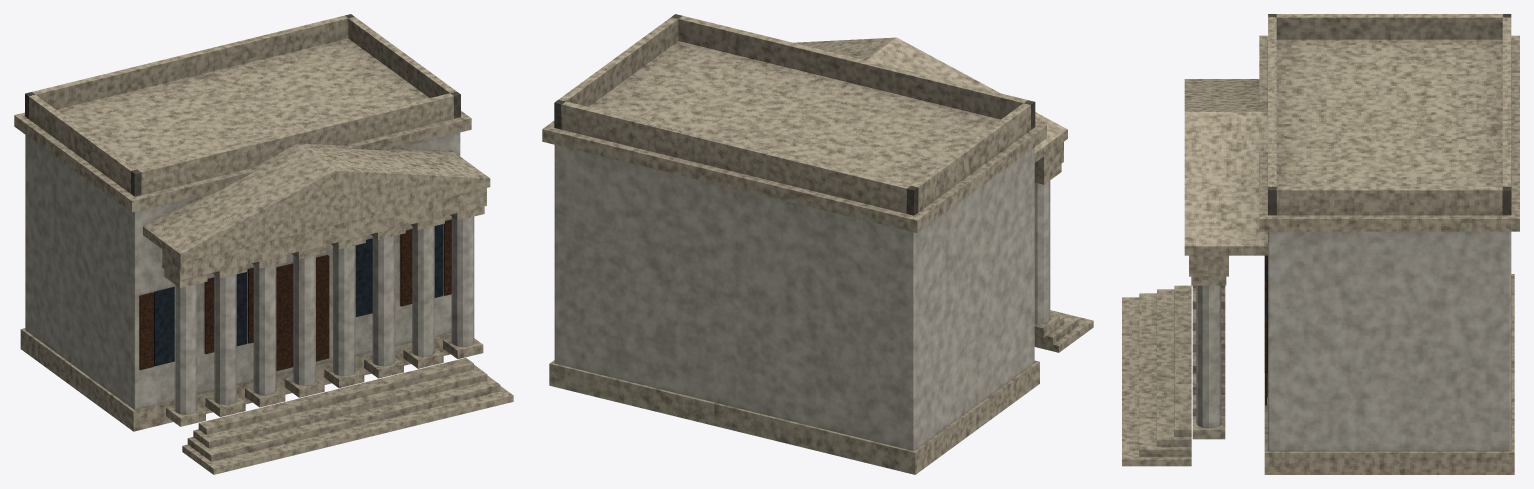
Rendered from siracusa_court.glb.
3 renders of one model, left to right at view 1: azimuth 30°, elevation 25°; view 2: azimuth 150°, elevation 25°; view 3: azimuth 270°, elevation 25°, orthographic. The views are drawn at different scales.
Parts seen in each view (by area): view 1: siracusa_court; view 2: siracusa_court; view 3: siracusa_court.
Part boxes in pixels (x1,y1,x2,y2): siracusa_court: [14, 14, 513, 474]; siracusa_court: [542, 14, 1093, 474]; siracusa_court: [1122, 14, 1519, 474].
Bounding box in the file's own units: 12.5 × 9 × 11.45.
5 materials, 5 textured.
